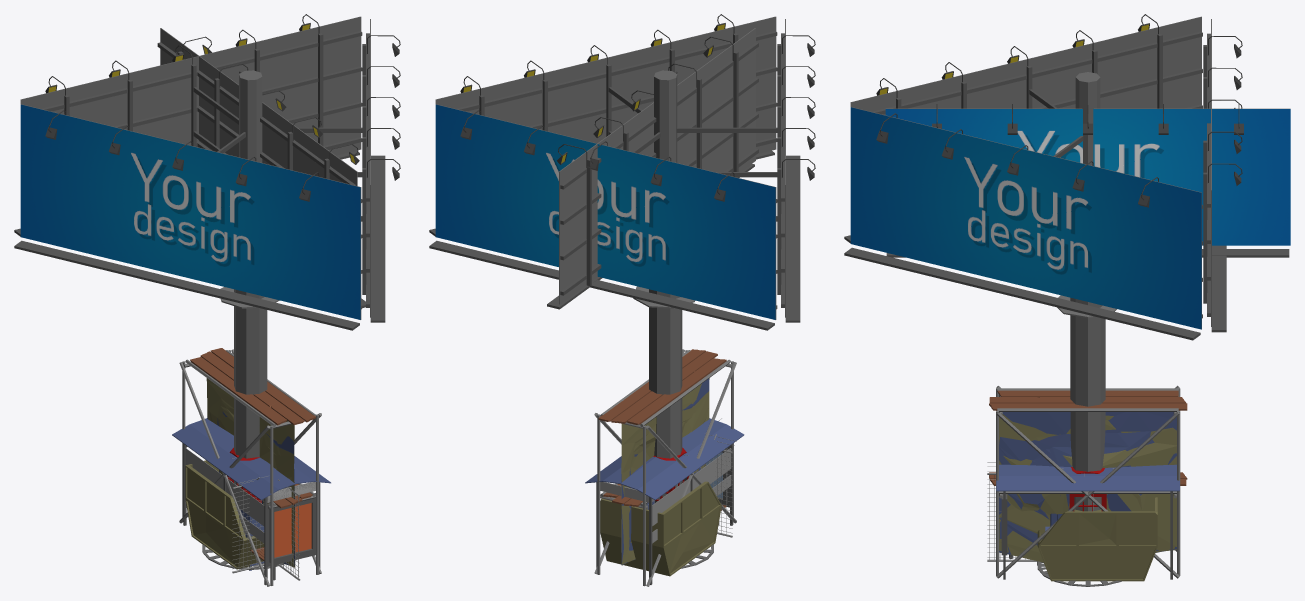
File: Props.fbx
3 renders of one model, left to right at view 1: azimuth 30°, elevation 25°; view 2: azimuth 150°, elevation 25°; view 3: azimuth 270°, elevation 25°, orthographic. The views are drawn at different scales.
Visible parts, largest first — view 1: Ads, Billboard_02, Bus_Stop_03, Billbaord_01, Scaffolding_01, Container_01, Bus_Stop_02, Tarpaulin_06, Tarpaulin_05, Fence_01; view 2: Ads, Billboard_02, Billbaord_01, Container_01, Scaffolding_01, Bus_Stop_03, Bus_Stop_02, Tarpaulin_06, Tarpaulin_05, Tarpaulin_02, Fence_01; view 3: Ads, Billboard_02, Ads_2, Container_01, Scaffolding_01, Tarpaulin_02, Bus_Stop_03, Tarpaulin_05, Billbaord_01, Tarpaulin_06.
Part boxes in pixels (box(x1,y1,x2,y2)): Ads: box(20, 104, 360, 319); Billboard_02: box(14, 14, 400, 537); Bus_Stop_03: box(172, 418, 330, 585); Billbaord_01: box(157, 28, 365, 308); Scaffolding_01: box(179, 348, 321, 586); Container_01: box(185, 460, 264, 569); Bus_Stop_02: box(195, 430, 330, 580); Tarpaulin_06: box(207, 382, 294, 567); Tarpaulin_05: box(206, 378, 294, 565); Fence_01: box(232, 486, 269, 573); Ads: box(435, 104, 775, 319); Billboard_02: box(429, 14, 815, 502); Billbaord_01: box(547, 28, 758, 309); Container_01: box(600, 481, 721, 576); Scaffolding_01: box(594, 349, 736, 586); Bus_Stop_03: box(593, 419, 744, 584); Bus_Stop_02: box(585, 418, 731, 563); Tarpaulin_06: box(621, 384, 709, 565); Tarpaulin_05: box(621, 378, 709, 563); Tarpaulin_02: box(621, 378, 709, 564); Fence_01: box(695, 450, 732, 537); Ads: box(850, 107, 1201, 329); Billboard_02: box(844, 14, 1242, 511); Ads_2: box(885, 109, 1290, 245); Container_01: box(1037, 497, 1157, 581); Scaffolding_01: box(989, 385, 1187, 578); Tarpaulin_02: box(999, 412, 1176, 554); Bus_Stop_03: box(996, 464, 1179, 579); Tarpaulin_05: box(999, 420, 1176, 552); Billbaord_01: box(886, 104, 1290, 318); Tarpaulin_06: box(999, 414, 1176, 562).
Bounding box in the file's own units: 877 × 1079 × 887.
2 materials, 2 textured.
